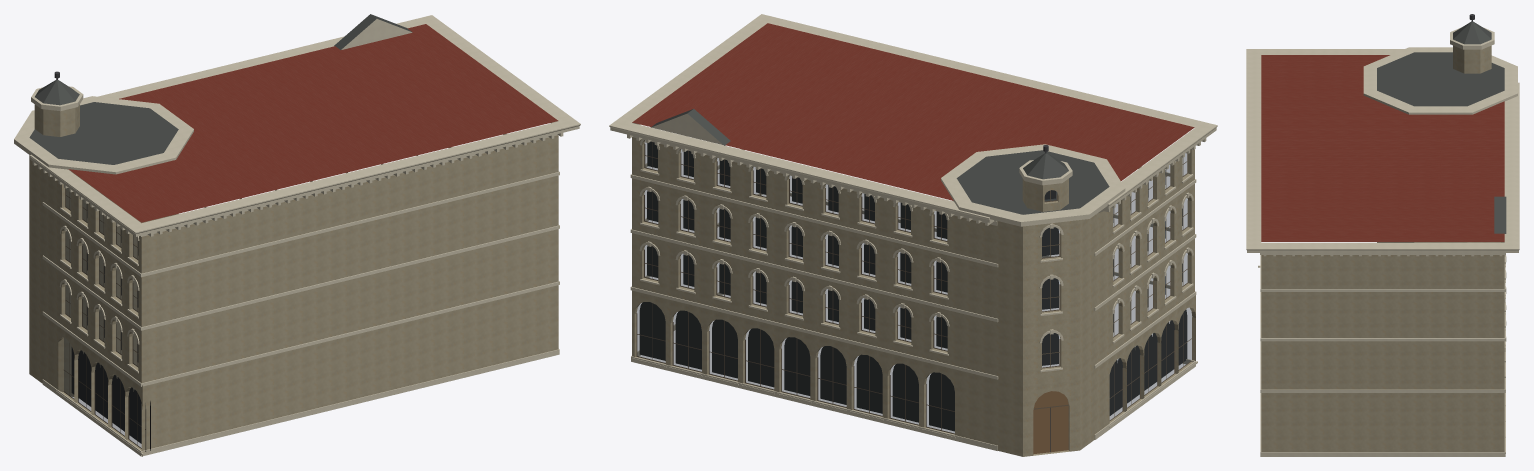
The model's file is tribune_building_1871__office_1869_1871.glb.
3 views of the same model, side by side, from view 1: azimuth 30°, elevation 25°; view 2: azimuth 150°, elevation 25°; view 3: azimuth 270°, elevation 25° (orthographic). The views are drawn at different scales.
Visible parts, largest first — view 1: tribune_building_1871__office_1869_1871; view 2: tribune_building_1871__office_1869_1871; view 3: tribune_building_1871__office_1869_1871.
Part boxes in pixels (bbox=[...]): tribune_building_1871__office_1869_1871: bbox=[14, 14, 580, 456]; tribune_building_1871__office_1869_1871: bbox=[609, 14, 1217, 456]; tribune_building_1871__office_1869_1871: bbox=[1246, 14, 1519, 456].
Bounding box in the file's own units: 36.57 × 22.9 × 21.17.
9 materials, 3 textured.
